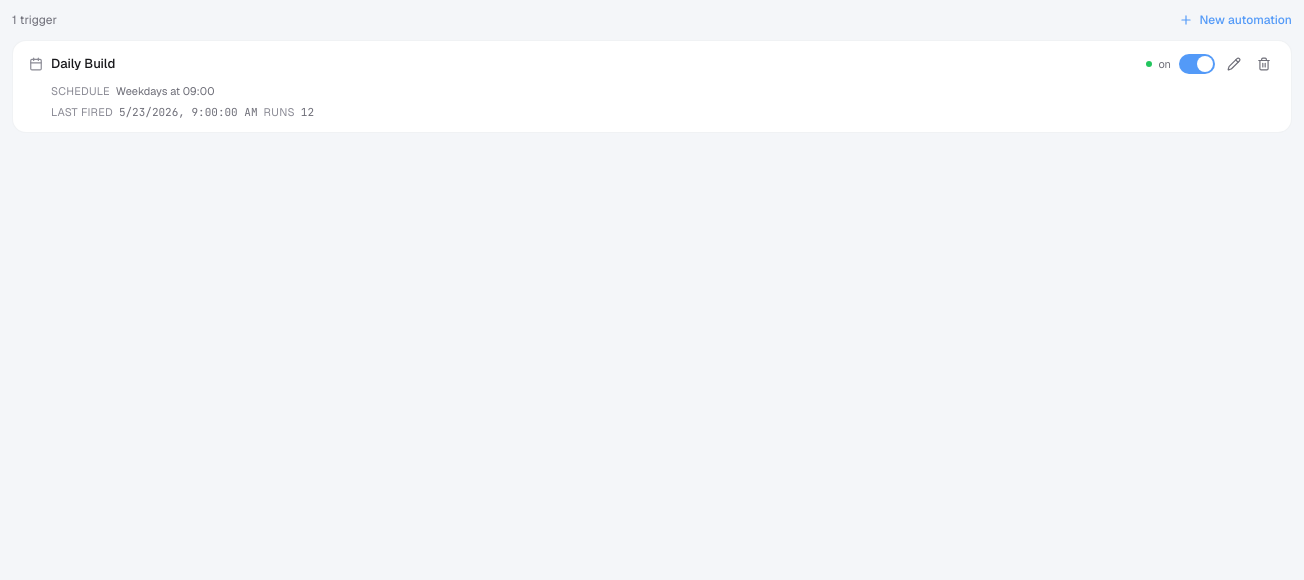
AutomationsList — edit › surfaces the server error inline instead of closing the form
This screenshot has width=1304, height=580.
Step 1. Click the button named "Edit Daily Build" → (1234, 64), box [1223, 53, 1245, 75]
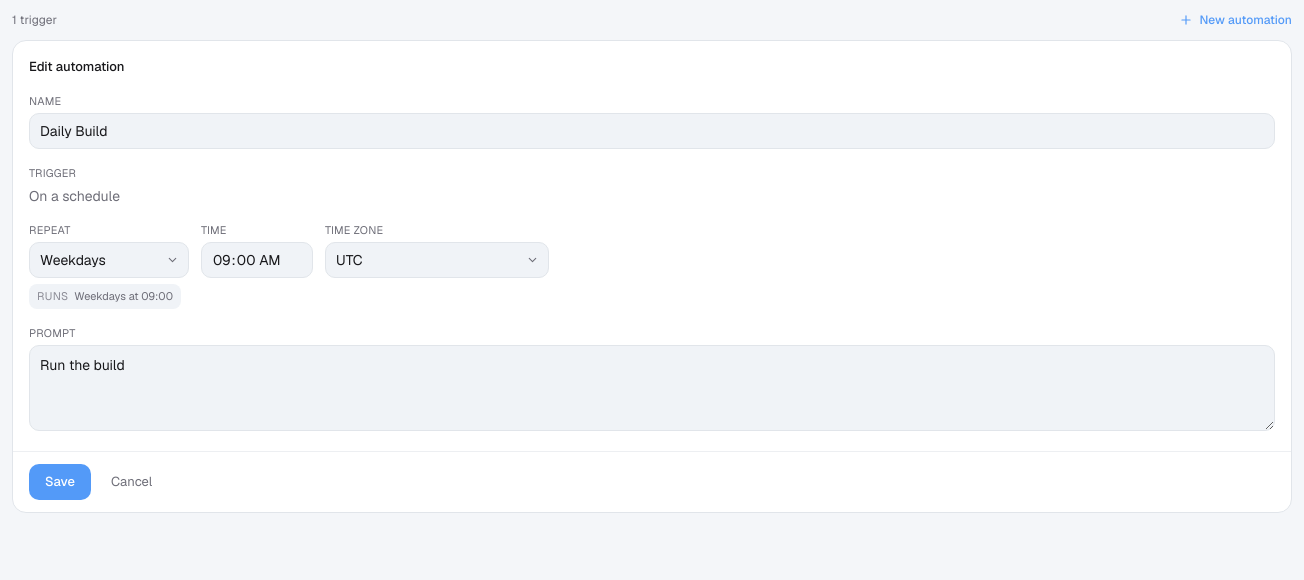
Step 2. Click the button with test id "automation-form-save" → (60, 482), box [29, 464, 91, 500]
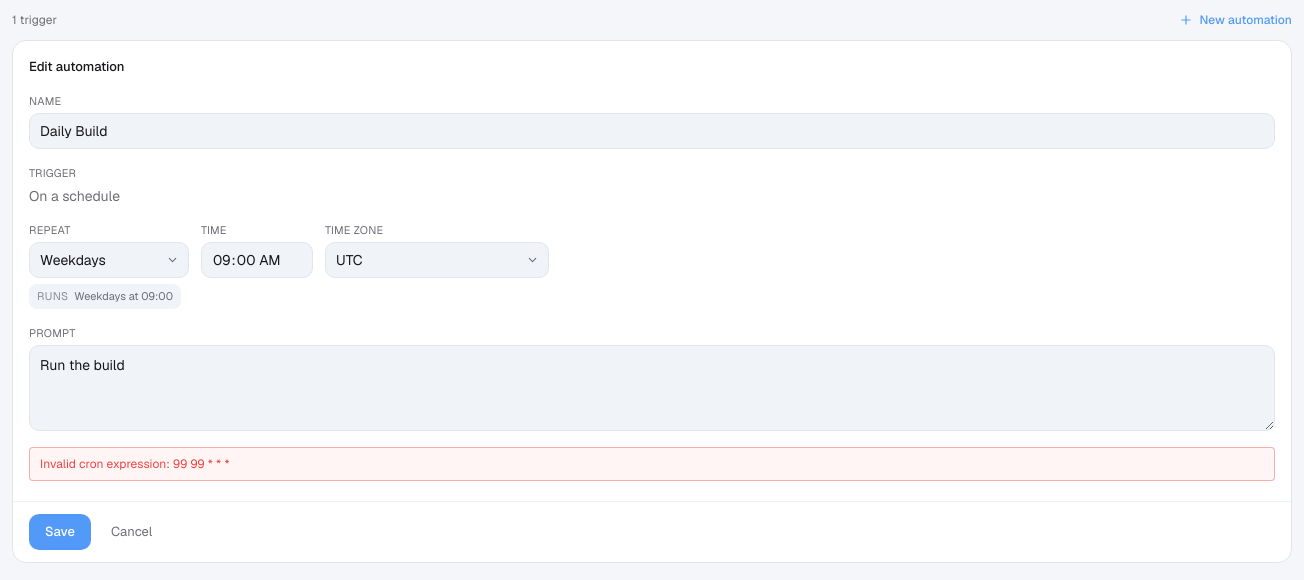
Result: the form with test id "automation-form" is shown
Result: the text with test id "automation-form-error" shows "Invalid cron expression" at [40, 456, 230, 472]
